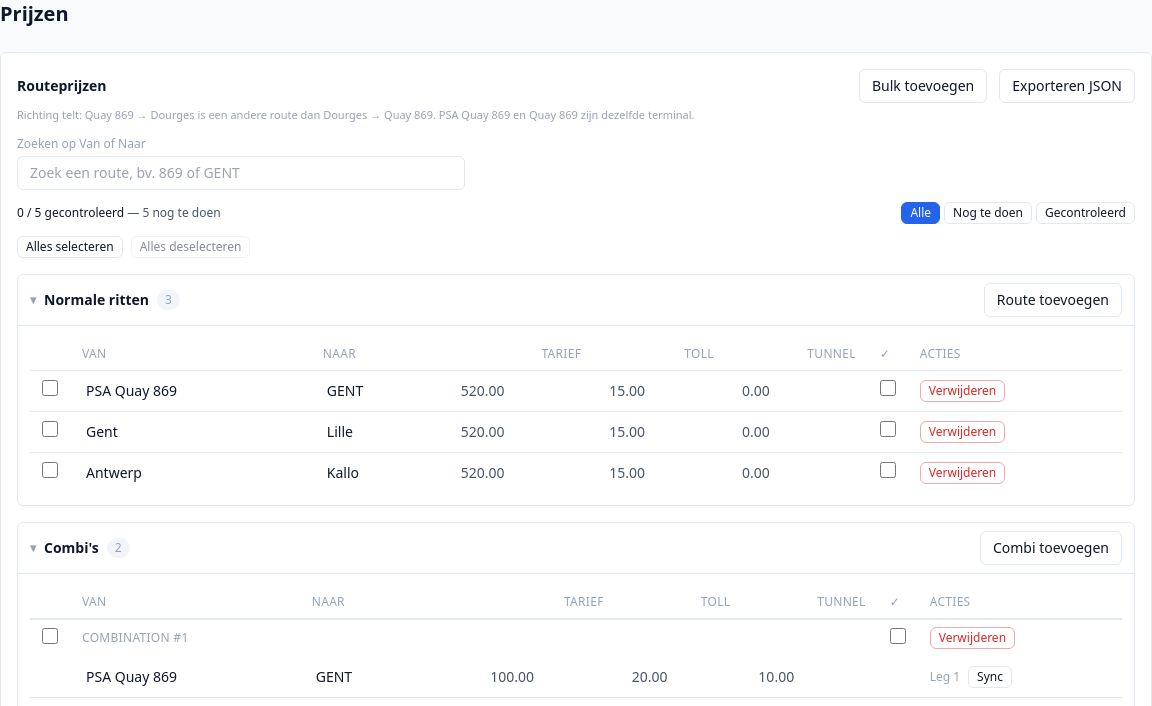
Scenario: the search › says when a section has no results
The width and height of the screenshot is (1152, 706).
Expected: the button "Lille" is shown, [323, 420, 433, 444]
Type "Lille" into the search field labelled "Zoeken op Van of Naar" at x=241, y=172, box [17, 156, 465, 190]
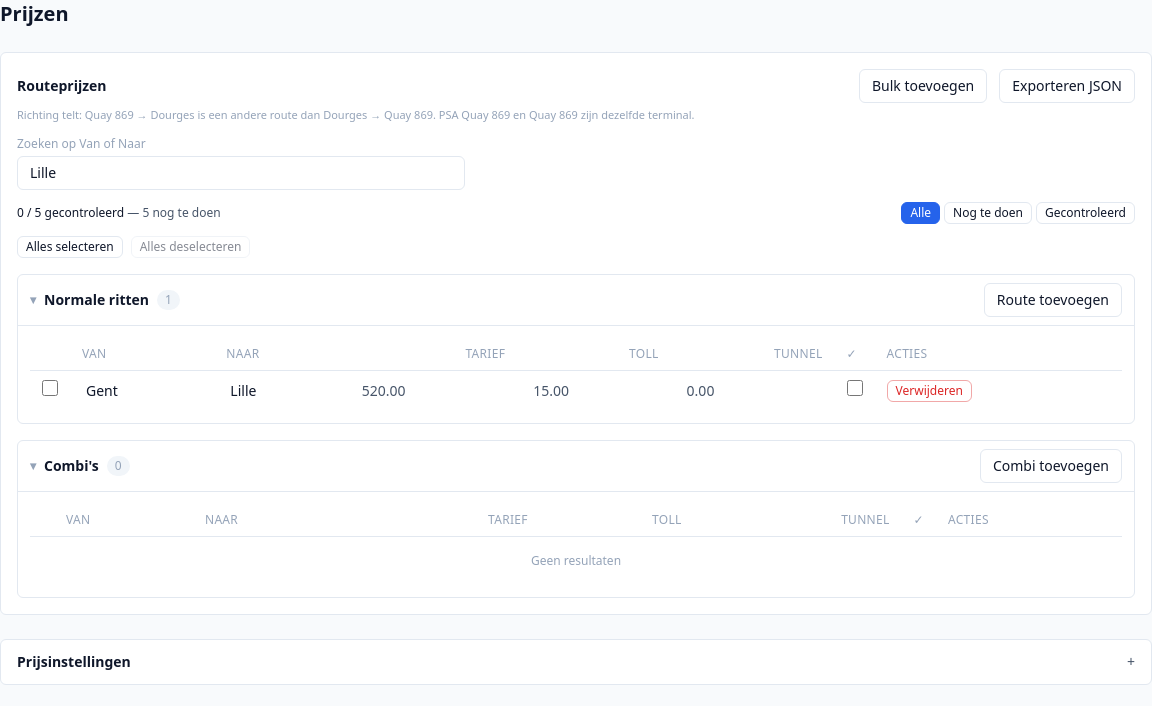
Expected: the text "Geen resultaten" is shown, [30, 536, 1122, 584]
